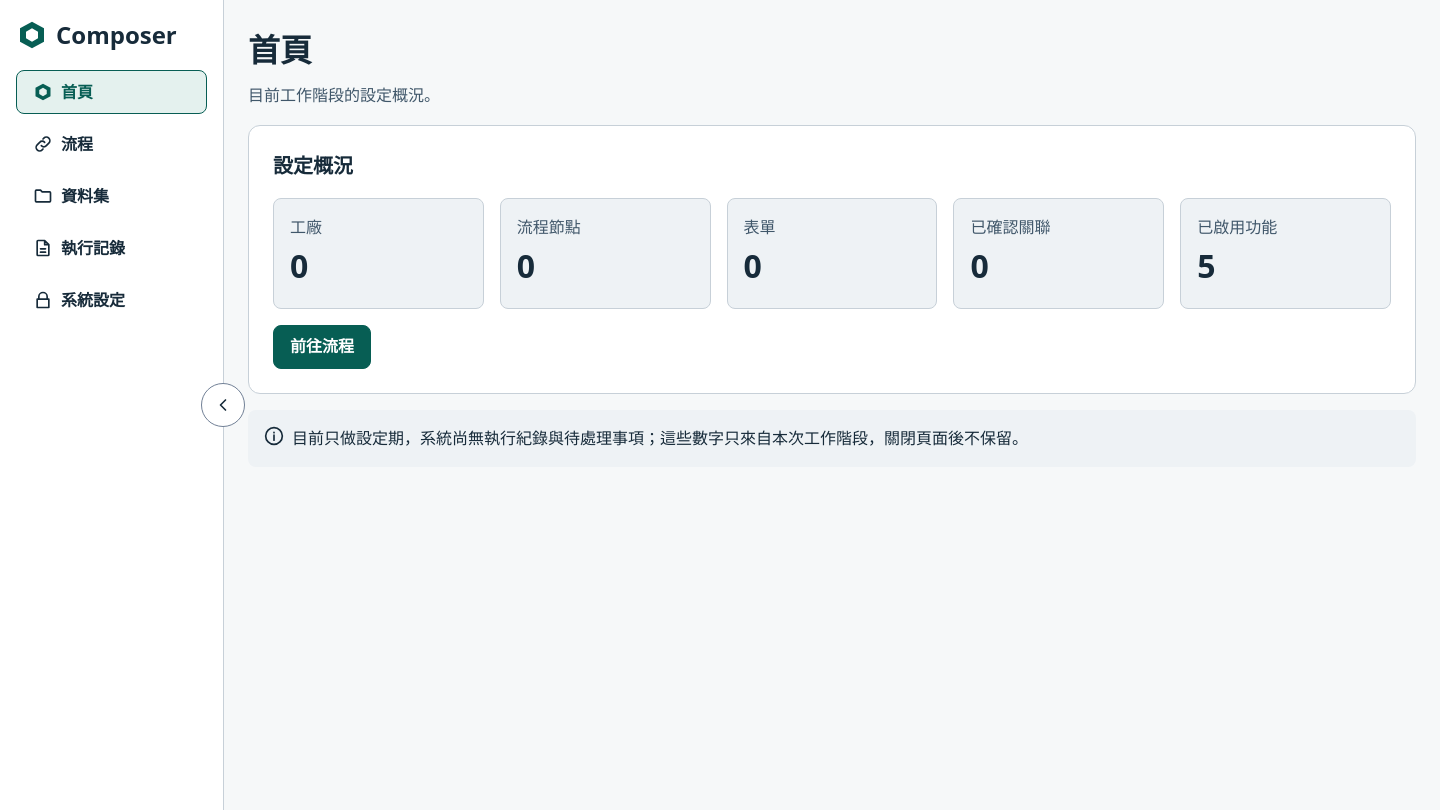
it: pages that are not built yet say so instead of showing made-up data (D16, D63)
Click the button "資料集": coordinates (112, 196) [16,174,207,218]
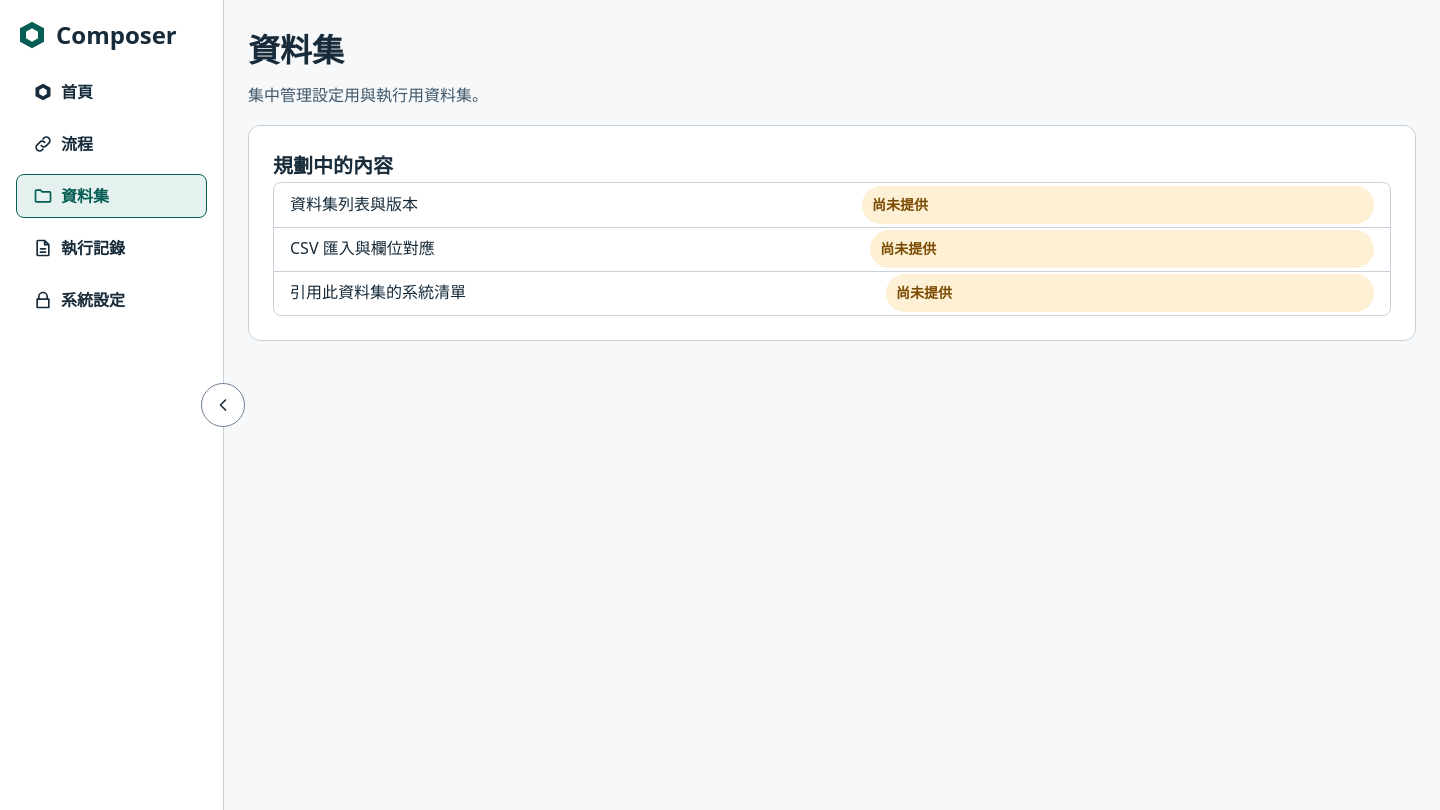
Now the heading "資料集" is shown, box [248,24,344,75]
Now the text "尚未提供" in the row of "資料集列表與版本" is shown, box [872,195,928,214]
Click the button "執行記錄": coordinates (112, 248) [16,226,207,270]
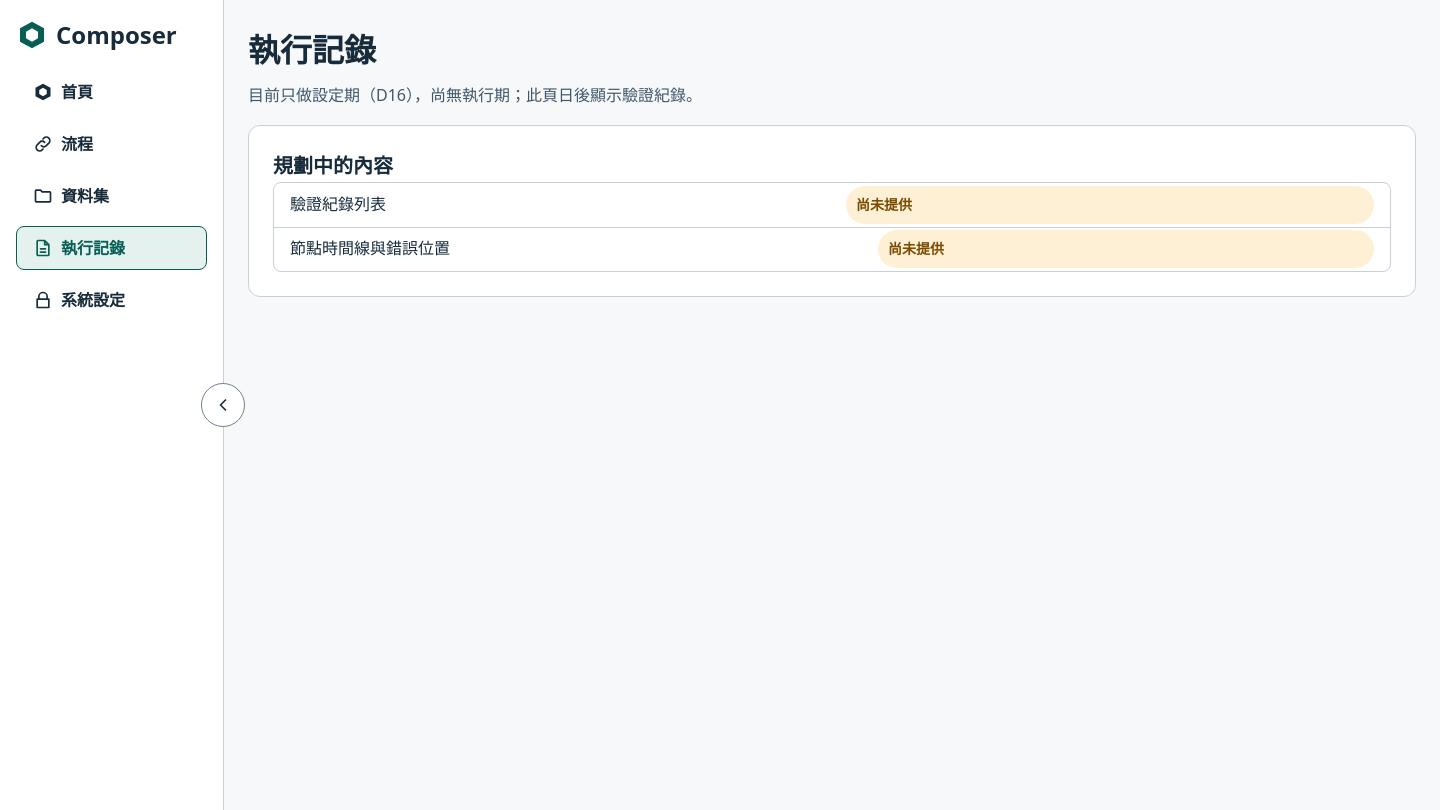
Now the text "尚未提供" in the row of "驗證紀錄列表" is shown, box [856,195,912,214]
Now the heading "執行記錄" is shown, box [248,24,376,75]
Click the button "系統設定": coordinates (112, 300) [16,278,207,322]
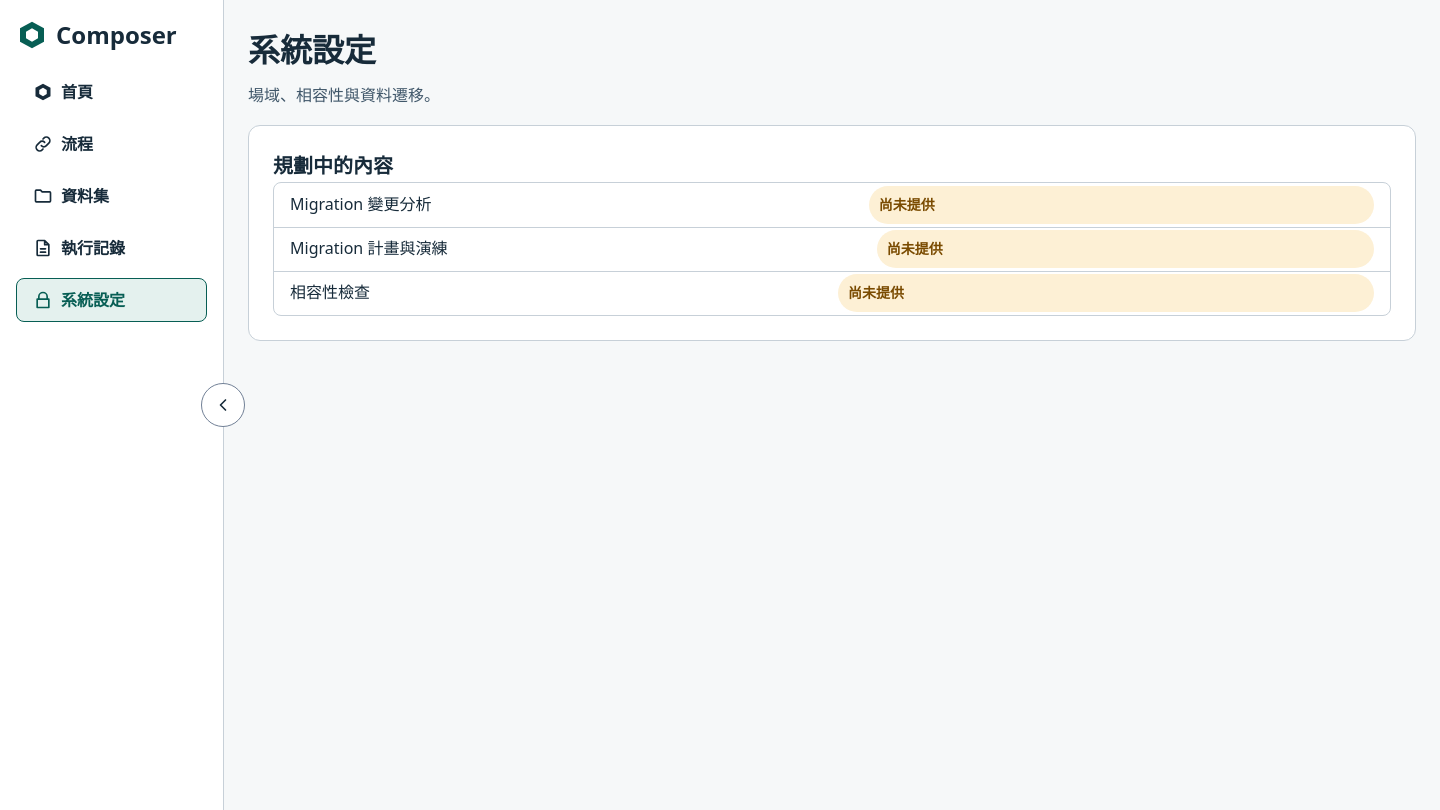
Now the text "尚未提供" in the row of "Migration 變更分析" is shown, box [879,195,935,214]
Now the heading "系統設定" is shown, box [248,24,376,75]
